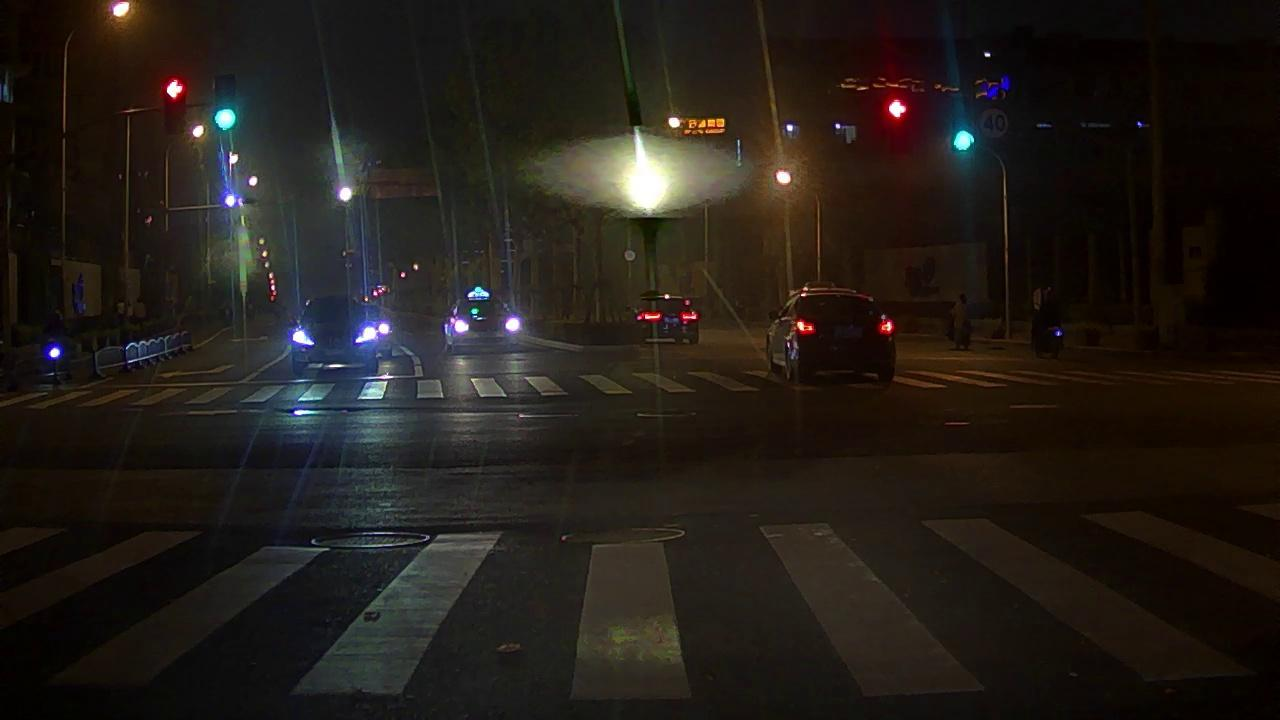traffic_light: (888, 97, 909, 155), (215, 78, 237, 131), (954, 98, 974, 153), (166, 80, 184, 132)
